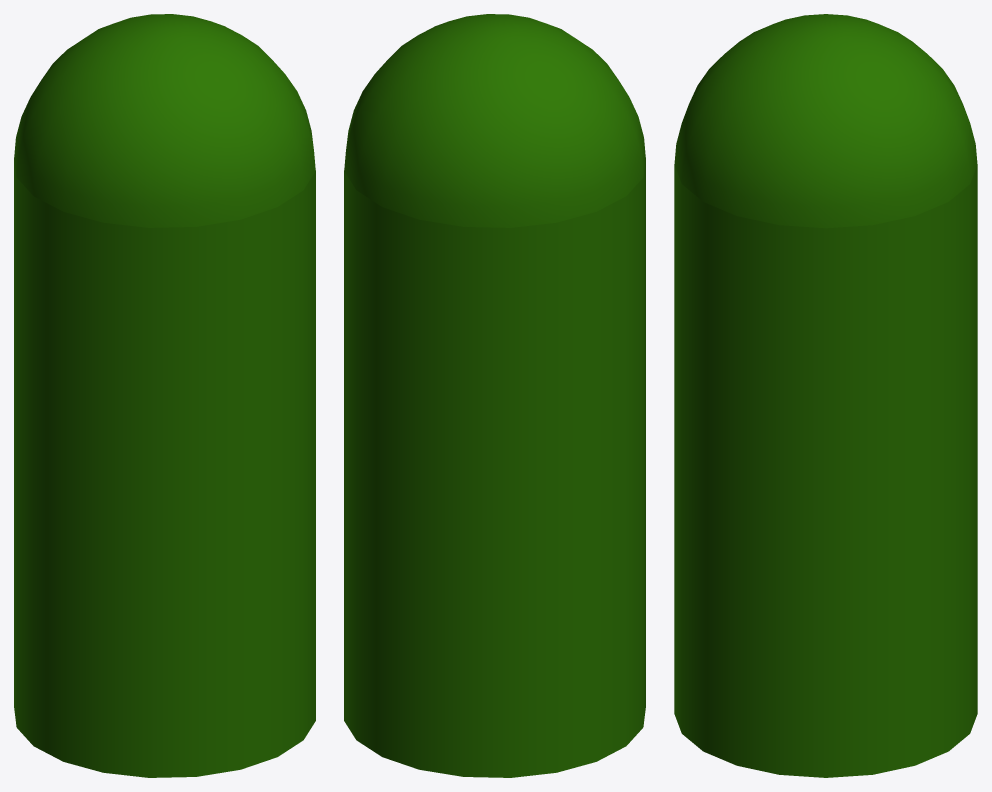
Rendered from marioMT.fbx.
3 views of the same model, side by side, from view 1: azimuth 30°, elevation 25°; view 2: azimuth 150°, elevation 25°; view 3: azimuth 270°, elevation 25° (orthographic).
Parts seen in each view (by area): view 1: pCylinder2, pSphere1; view 2: pCylinder2, pSphere1; view 3: pCylinder2, pSphere1.
Part boxes in pixels (x1=…): pCylinder2: x1=14, y1=157, x2=315, y2=777; pSphere1: x1=14, y1=14, x2=315, y2=227; pCylinder2: x1=344, y1=157, x2=645, y2=777; pSphere1: x1=344, y1=14, x2=645, y2=227; pCylinder2: x1=674, y1=165, x2=977, y2=777; pSphere1: x1=674, y1=14, x2=977, y2=228.
Bounding box in the file's own units: 4 × 9.98 × 4.
